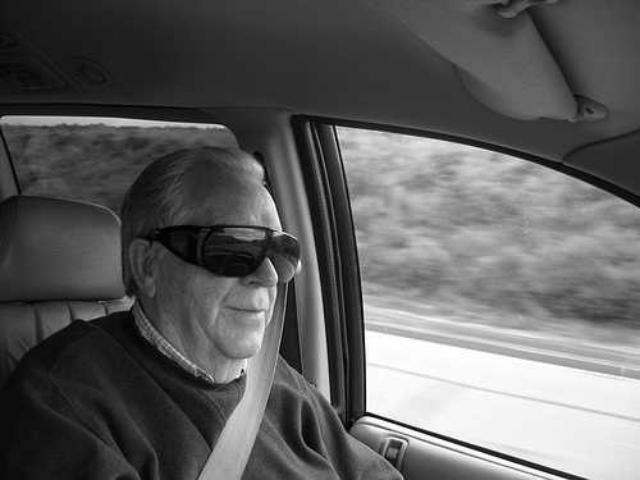Seatbelt: (195, 276, 292, 480)
